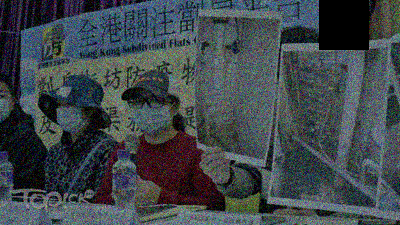with_mask: (132, 92, 173, 134), (57, 97, 88, 134), (1, 88, 13, 126)
